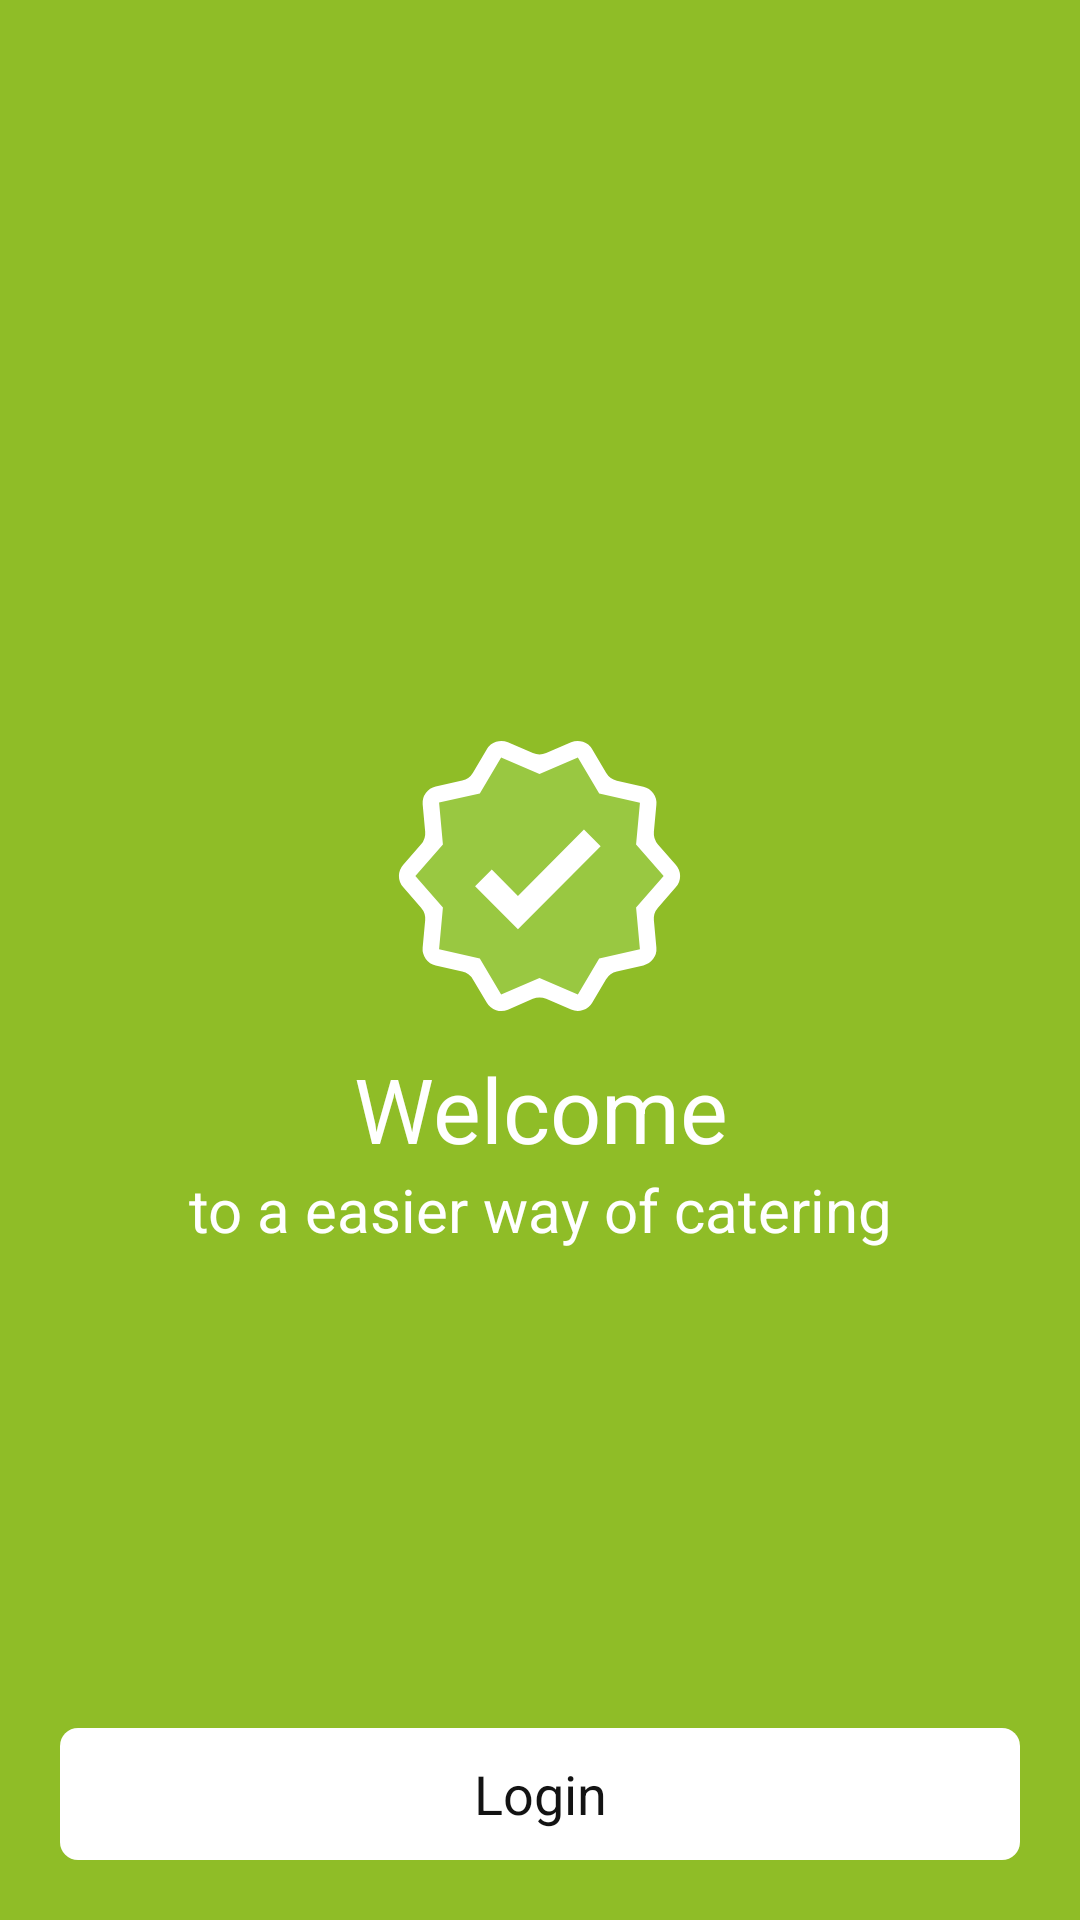

Icon click points for this 1080px x 1920px phone screenshot, format point (x, y):
success: point (539, 876)
